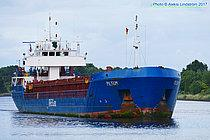Ship: (9, 14, 185, 129)
